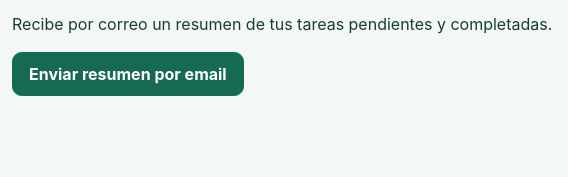
Test: EmailSummaryButton › muestra el error de envío y permite reintentar
Click the button "Enviar resumen por email" at [128, 74], box [12,52,244,96]
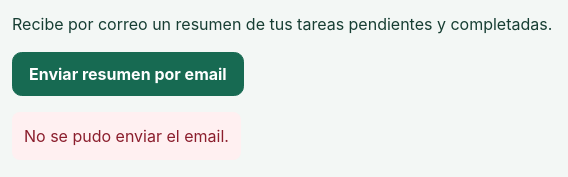
Result: the message reads "No se pudo enviar el email." at [24,126,229,146]
